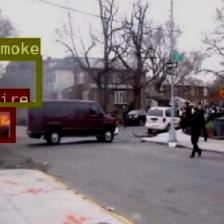fire: (0, 105, 14, 141)
smoke: (0, 55, 41, 106)
